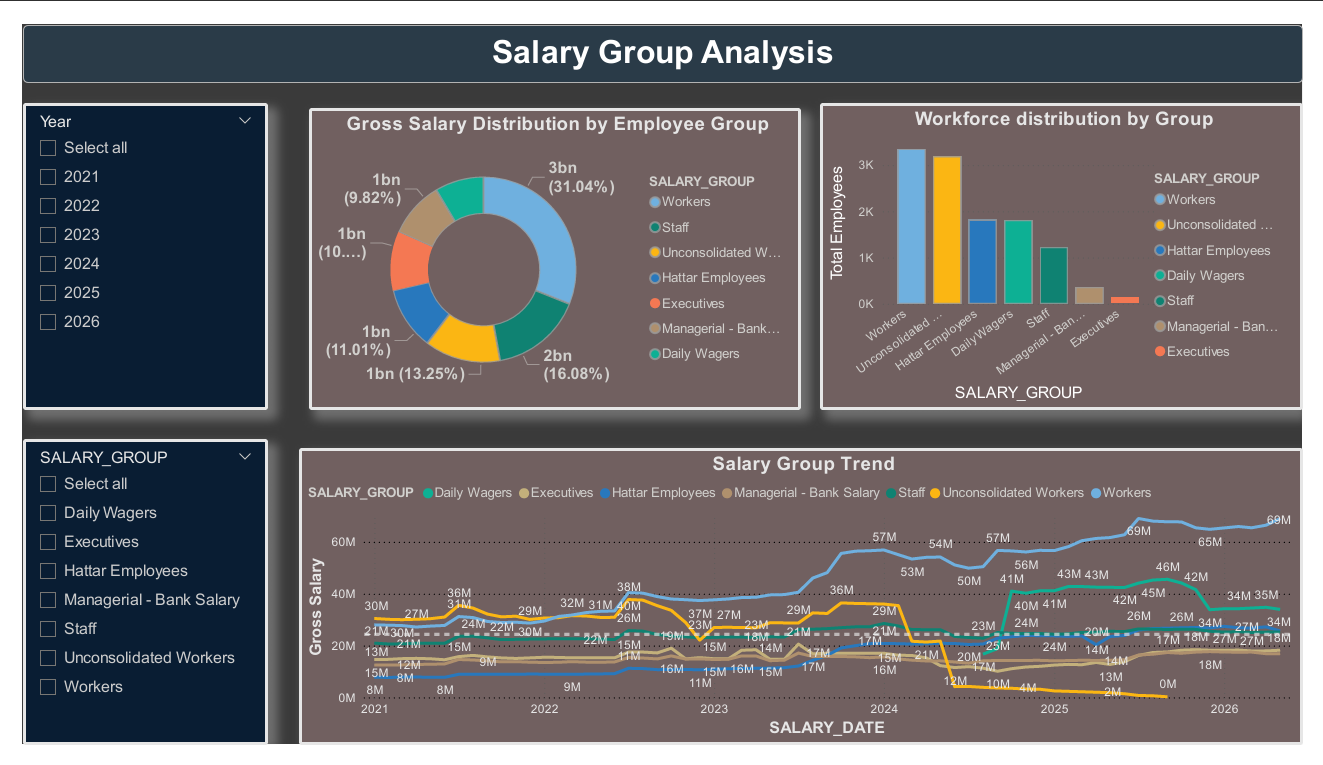

The page's visual inventory and layout, read from the dashboard file:
{"tool":"powerbi","page":{"name":"Salary Group Analysis","canvas":[1280,720],"ordinal":11},"visuals":[{"type":"textbox","box":[0,0,1280,57.9],"z":0},{"type":"slicer","fields":{"Values":["DateTable.Year"]},"box":[0,78.4,244.9,306.4],"z":1000},{"type":"slicer","fields":{"Values":["AI_PAYROLL_DATA.SALARY_GROUP"]},"box":[0,413.8,244.9,306.4],"z":2000},{"type":"columnChart","title":"Workforce distribution by Group","fields":{"Category":["AI_PAYROLL_DATA.SALARY_GROUP"],"Y":["AI_PAYROLL_DATA.Total Employees"],"Series":["AI_PAYROLL_DATA.SALARY_GROUP"]},"box":[797.5,78.4,482.6,306.4],"z":3000},{"type":"lineChart","title":"Salary Group Trend","fields":{"Category":["AI_PAYROLL_DATA.SALARY_DATE"],"Series":["AI_PAYROLL_DATA.SALARY_GROUP"],"Y":["Sum(AI_PAYROLL_DATA.GROSS_SALARY)"]},"box":[276.3,423.5,1003.8,296.8],"z":4000},{"type":"donutChart","title":"Gross Salary Distribution by Employee Group","fields":{"Category":["AI_PAYROLL_DATA.SALARY_GROUP"],"Y":["AI_PAYROLL_DATA.Total Gross Salary"]},"box":[285.9,83.2,492.2,301.6],"z":5000}]}

Visuals, with their boxes in screenshot pixels (x1, y1, x2, y2), scaled from the page's 1280x720 canvas onto the 1323x765 screenshot:
textbox: region(0, 0, 1322, 62)
slicer - DateTable.Year: region(0, 83, 253, 409)
slicer - AI_PAYROLL_DATA.SALARY_GROUP: region(0, 440, 253, 764)
"Workforce distribution by Group" columnChart: region(824, 83, 1322, 409)
"Salary Group Trend" lineChart: region(286, 450, 1322, 764)
"Gross Salary Distribution by Employee Group" donutChart: region(296, 88, 804, 409)
